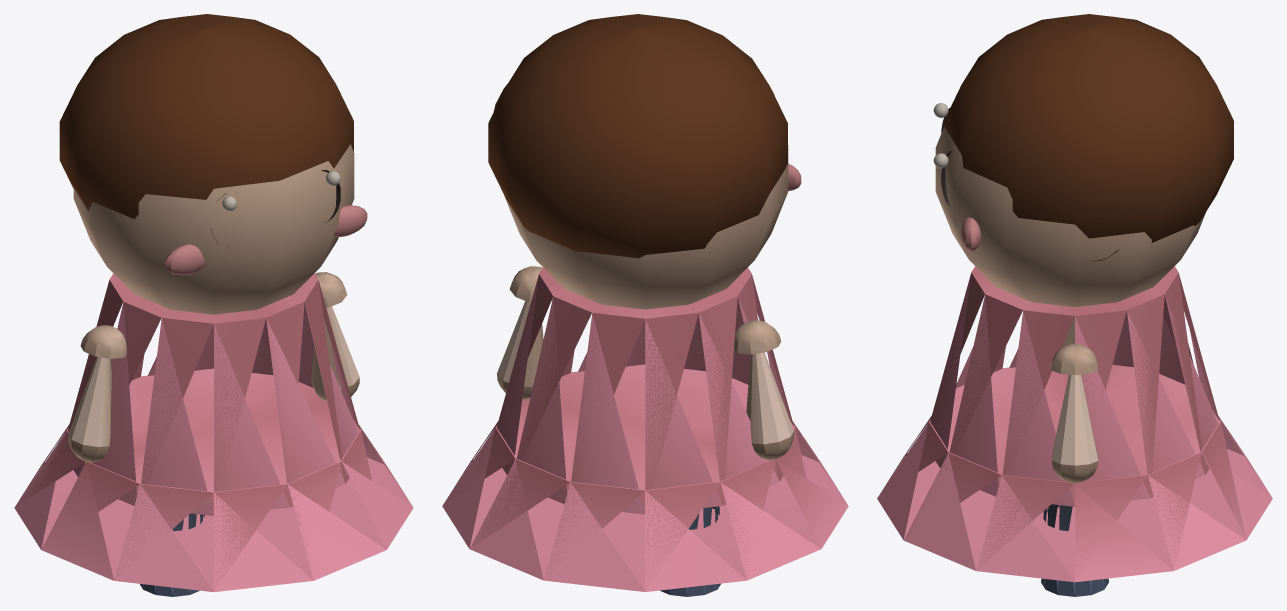
The picture shows the model from 3 angles, left to right: view 1: azimuth 30°, elevation 25°; view 2: azimuth 150°, elevation 25°; view 3: azimuth 270°, elevation 25°; orthographic projection. The views are drawn at different scales.
Visible parts, largest first — view 1: pet_p0d7a5740; view 2: pet_p0d7a5740; view 3: pet_p0d7a5740.
Part boxes in pixels (box(x1,y1,x2,y2)): pet_p0d7a5740: box(14, 14, 413, 596); pet_p0d7a5740: box(442, 14, 848, 596); pet_p0d7a5740: box(877, 14, 1272, 596).
Size of the model in its own units: 0.357 by 0.5313 by 0.357.
